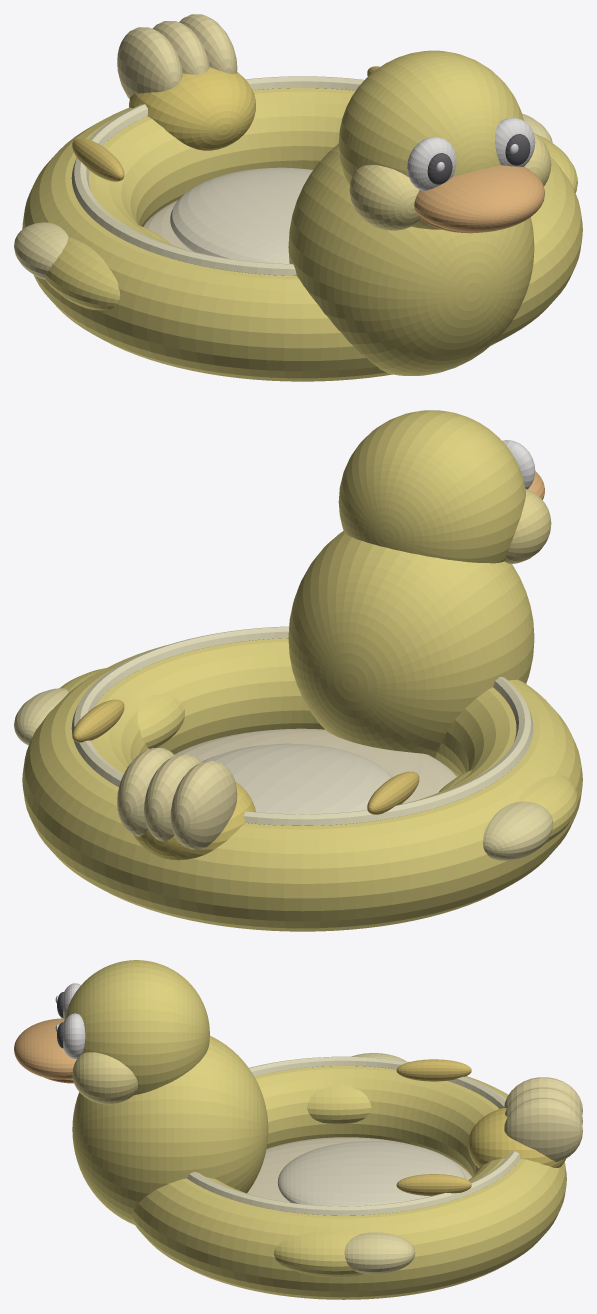
Rendered from phao-con-vit-3d.glb.
The picture shows the model from 3 angles, top to bottom: view 1: azimuth 30°, elevation 25°; view 2: azimuth 150°, elevation 25°; view 3: azimuth 270°, elevation 25°; orthographic projection. The views are drawn at different scales.
Parts seen in each view (by area): view 1: DuckRing_MainYellow, DuckChest_Connected, DuckHead_Main, DuckSeat_Cushion, DuckTail_Base, DuckBill_Upper, DuckRing_UpperSeam, DuckWing_L, DuckCheek_L, DuckTail_Feather_-1, DuckFeather_L, DuckTail_Feather_1 (+9 smaller); view 2: DuckRing_MainYellow, DuckChest_Connected, DuckHead_Main, DuckSeat_Cushion, DuckRing_UpperSeam, DuckSeat_BeigeWeb, DuckTail_Feather_-1, DuckFeather_L, DuckTail_Feather_1, DuckTail_Feather_0, DuckWing_R, DuckWing_L (+6 smaller); view 3: DuckRing_MainYellow, DuckChest_Connected, DuckHead_Main, DuckSeat_Cushion, DuckRing_UpperSeam, DuckTail_Feather_1, DuckWing_R, DuckCheek_R, DuckBill_Upper, DuckFeather_R, DuckTail_Base, DuckSeat_BeigeWeb (+6 smaller).
Boxes of the visible parts, x1,y1,x2,y2 form: DuckRing_MainYellow: (22,88,582,381); DuckChest_Connected: (288,144,534,375); DuckHead_Main: (338,50,523,229); DuckSeat_Cushion: (170,167,312,263); DuckTail_Base: (129,67,255,150); DuckBill_Upper: (414,165,544,232); DuckRing_UpperSeam: (71,76,364,275); DuckWing_L: (45,225,170,310); DuckCheek_L: (349,165,420,230); DuckTail_Feather_-1: (117,27,182,98); DuckFeather_L: (14,222,68,279); DuckTail_Feather_1: (179,14,237,73); DuckRing_MainYellow: (22,638,582,931); DuckChest_Connected: (288,531,534,758); DuckHead_Main: (338,410,525,563); DuckSeat_Cushion: (202,743,392,814); DuckRing_UpperSeam: (71,626,533,825); DuckSeat_BeigeWeb: (174,728,456,803); DuckTail_Feather_-1: (170,761,237,849); DuckFeather_L: (483,801,553,860); DuckTail_Feather_1: (117,748,174,836); DuckTail_Feather_0: (144,754,201,841); DuckWing_R: (59,668,184,748); DuckWing_L: (438,770,577,844); DuckRing_MainYellow: (131,1066,566,1299); DuckChest_Connected: (72,1036,268,1224); DuckHead_Main: (64,960,209,1095); DuckSeat_Cushion: (277,1141,465,1206); DuckRing_UpperSeam: (187,1056,520,1215); DuckTail_Feather_1: (504,1098,582,1161); DuckWing_R: (273,1231,364,1277); DuckCheek_R: (72,1052,137,1104); DuckBill_Upper: (14,1018,76,1079); DuckFeather_R: (344,1232,415,1274); DuckTail_Base: (468,1108,565,1167); DuckSeat_BeigeWeb: (247,1137,471,1202).
Bounding box in the file's own units: 2.54 × 1.5 × 3.02.
